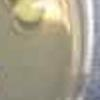yellow: (14, 0, 46, 25)
